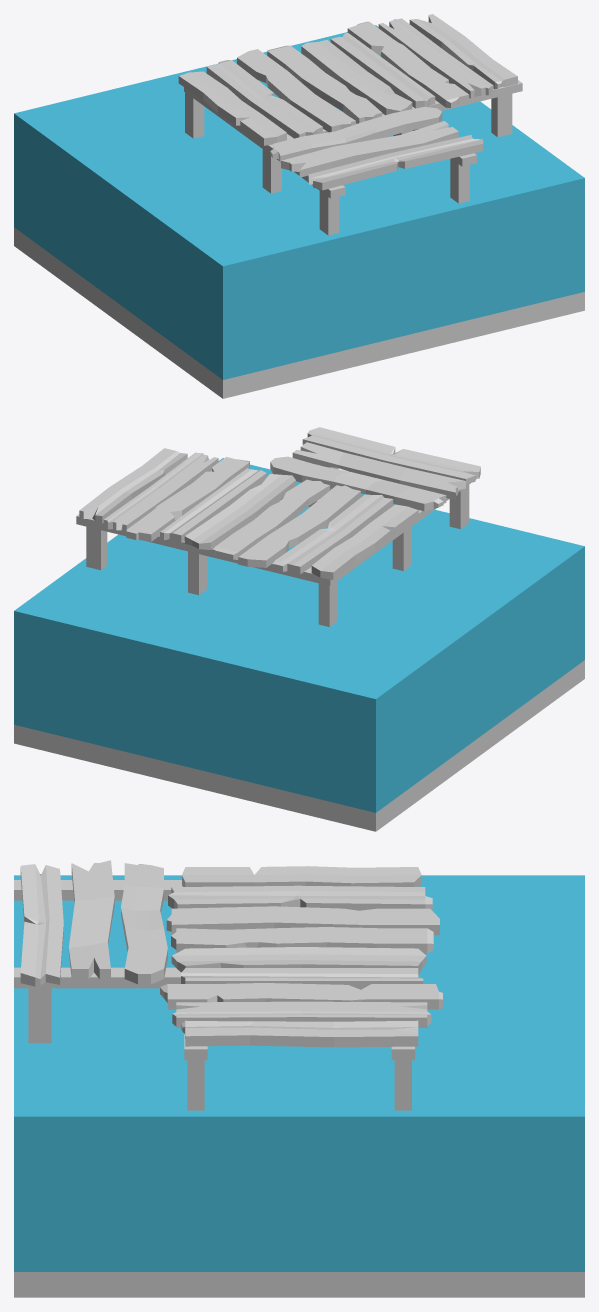
Rendered from PortUL.fbx.
3 views of the same model, one above another, from view 1: azimuth 30°, elevation 25°; view 2: azimuth 150°, elevation 25°; view 3: azimuth 270°, elevation 25° (orthographic). The views are drawn at different scales.
Visible parts, largest first — view 1: PortUL; view 2: PortUL; view 3: PortUL.
Part boxes in pixels (left/top/right/bottom): PortUL: left=14, top=14, right=584, bottom=398; PortUL: left=14, top=427, right=584, bottom=831; PortUL: left=14, top=860, right=584, bottom=1297.
Size of the model in its own units: 2 by 2 by 1.
